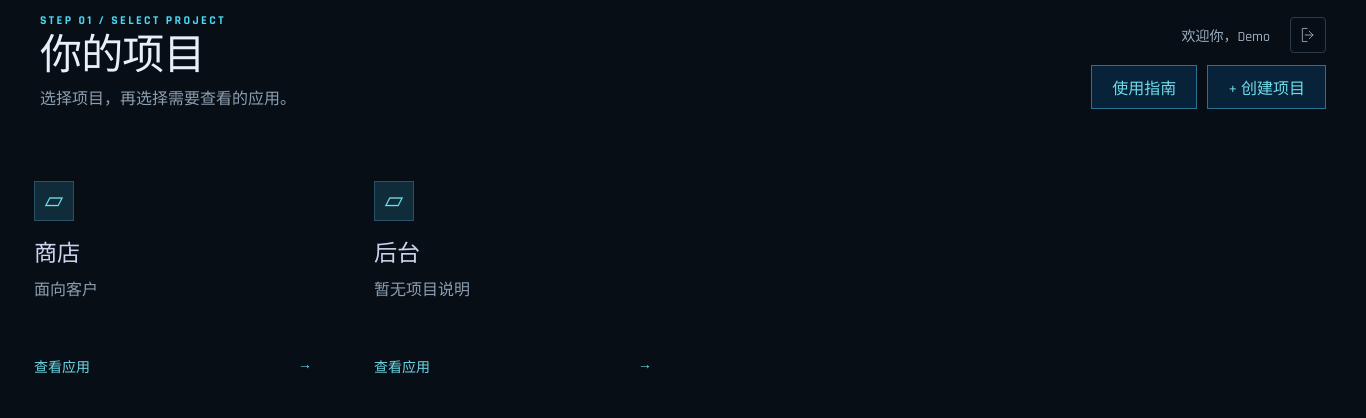
Test: shows a retry state instead of an empty list when apps fail
Click the button with class "selection-card" showing "▱ 商店 面向客户 查看应用 →" at coordinates (54, 201), box [10,157,336,401]
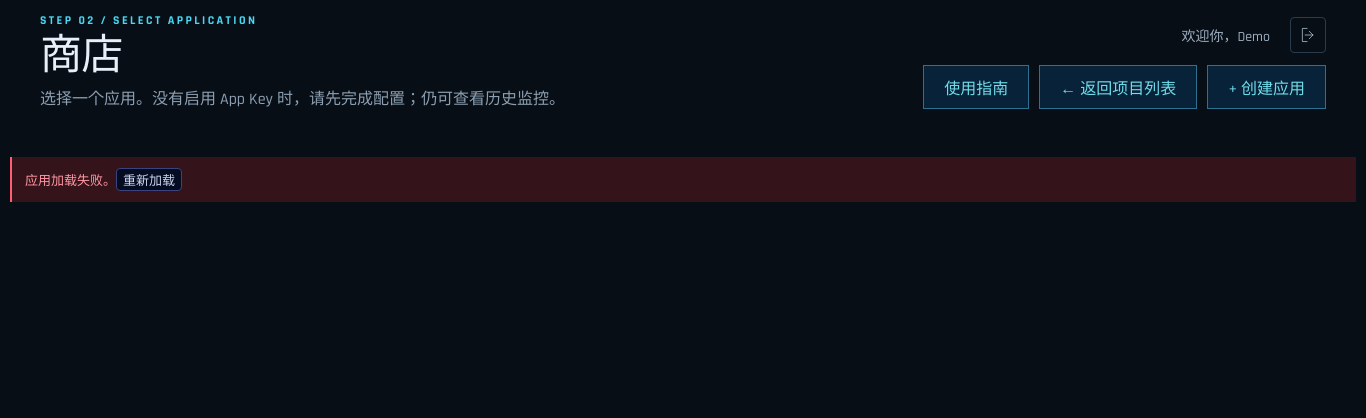
Expected: the message "应用加载失败。 重新加载" is shown, [10,157,1356,202]
